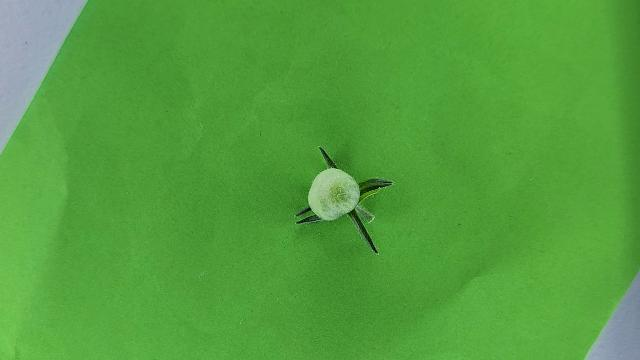Fruit Maturation: (307, 167, 362, 221)
